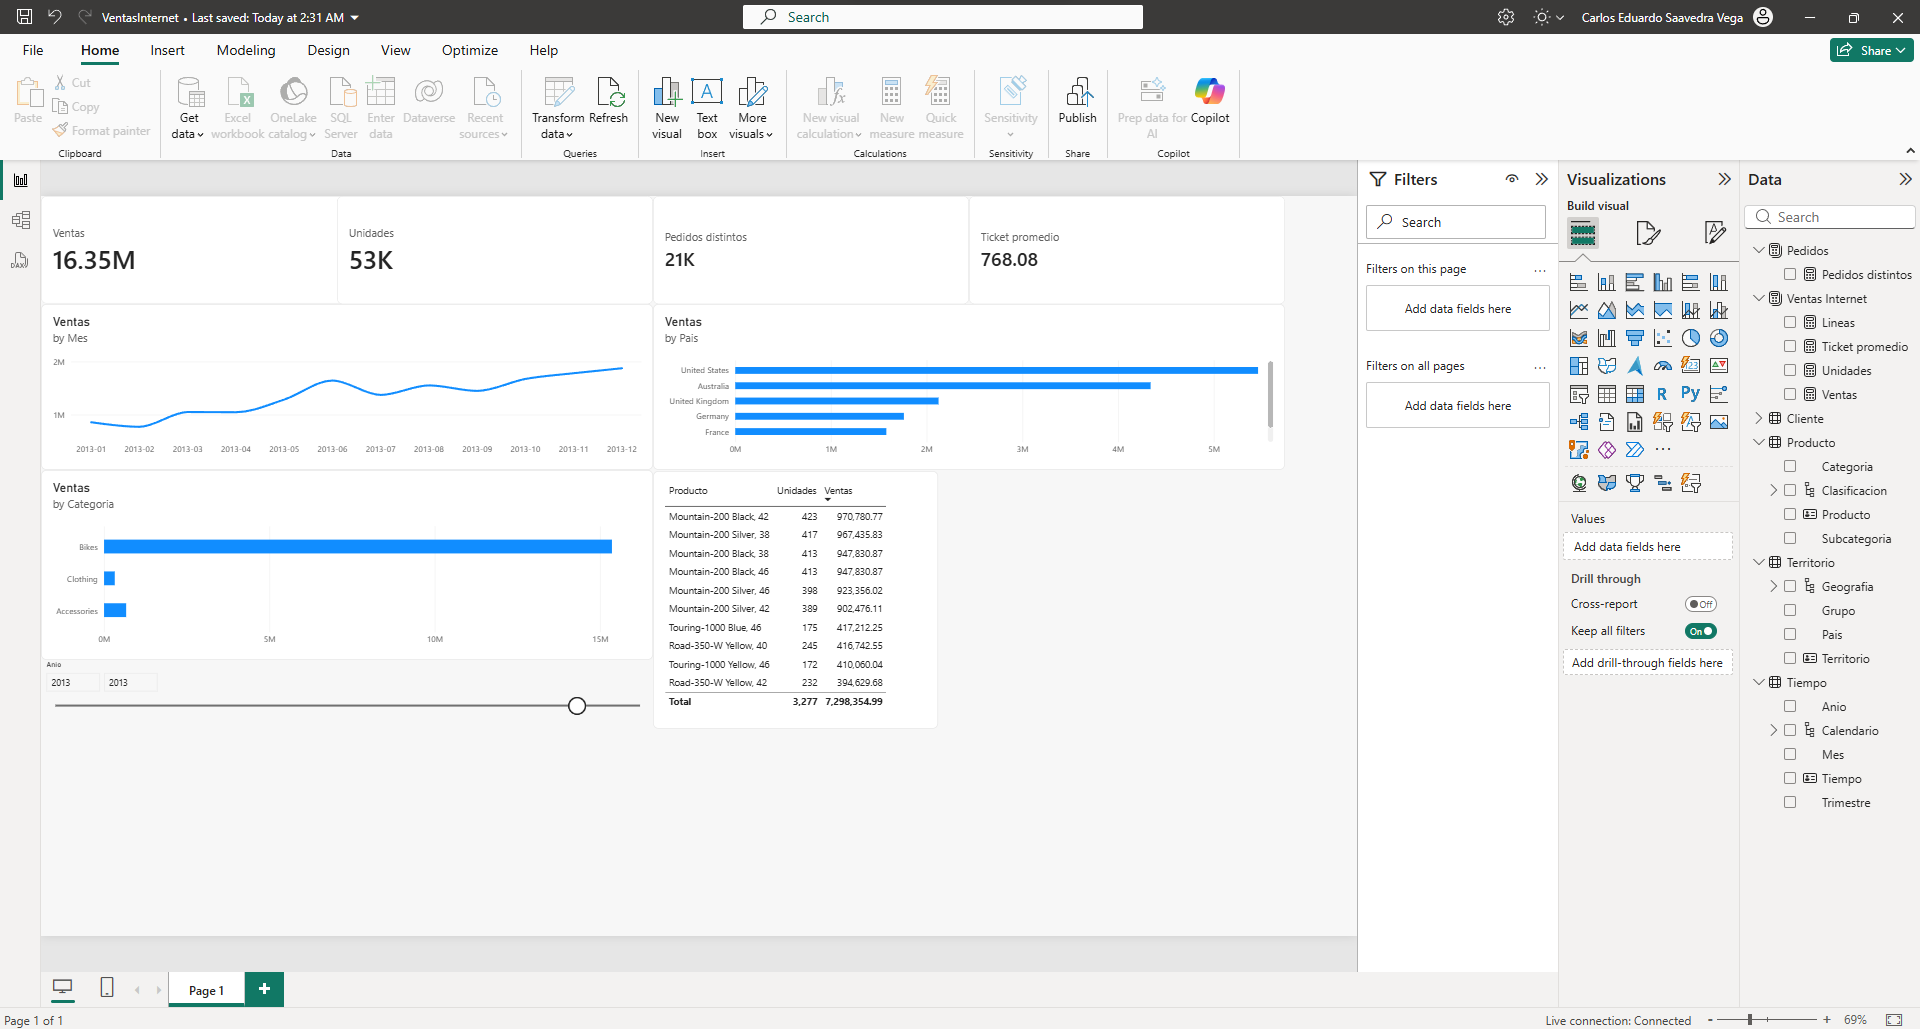

The dashboard page shown, as its layout file describes it:
{"tool":"powerbi","page":{"name":"Page 1","canvas":[1920,1080],"ordinal":0},"visuals":[{"type":"cardVisual","fields":{"Data":["Ventas Internet.Ventas"]},"box":[0,0,461,157.6],"z":0},{"type":"cardVisual","fields":{"Data":["Ventas Internet.Unidades"]},"box":[431.9,0,461,158],"z":1001},{"type":"cardVisual","fields":{"Data":["Pedidos.Pedidos distintos"]},"box":[892.9,0,461,158],"z":1002},{"type":"cardVisual","fields":{"Data":["Ventas Internet.Ticket promedio"]},"box":[1353.9,0,461,158],"z":1003},{"type":"lineChart","fields":{"Category":["Tiempo.Mes"],"Y":["Ventas Internet.Ventas"]},"box":[0,157.6,892.9,242.2],"z":1004},{"type":"clusteredBarChart","fields":{"Category":["Territorio.Pais"],"Y":["Ventas Internet.Ventas"]},"box":[892.9,157.6,922.1,297.6],"z":1005},{"type":"clusteredBarChart","fields":{"Category":["Producto.Categoria"],"Y":["Ventas Internet.Ventas"]},"box":[0,399.8,892.9,267],"z":1006},{"type":"tableEx","fields":{"Values":["Producto.Producto","Ventas Internet.Unidades","Ventas Internet.Ventas"]},"box":[892.9,455.2,415.8,376.4],"z":1007},{"type":"slicer","fields":{"Values":["Tiempo.Anio"]},"box":[0,677,892.9,100.7],"z":1008}]}

Visuals, with their boxes on the page's 1920x1080 design canvas (x1, y1, x2, y2). These are canvas units, not pixel positions in the 1920x1029 screenshot, which may show the page scaled, cropped or inside an application window:
cardVisual - Ventas Internet.Ventas: bbox=[0, 0, 461, 158]
cardVisual - Ventas Internet.Unidades: bbox=[432, 0, 893, 158]
cardVisual - Pedidos.Pedidos distintos: bbox=[893, 0, 1354, 158]
cardVisual - Ventas Internet.Ticket promedio: bbox=[1354, 0, 1815, 158]
lineChart - Tiempo.Mes x Ventas Internet.Ventas: bbox=[0, 158, 893, 400]
clusteredBarChart - Territorio.Pais x Ventas Internet.Ventas: bbox=[893, 158, 1815, 455]
clusteredBarChart - Producto.Categoria x Ventas Internet.Ventas: bbox=[0, 400, 893, 667]
tableEx - Producto.Producto x Ventas Internet.Unidades: bbox=[893, 455, 1309, 832]
slicer - Tiempo.Anio: bbox=[0, 677, 893, 778]
